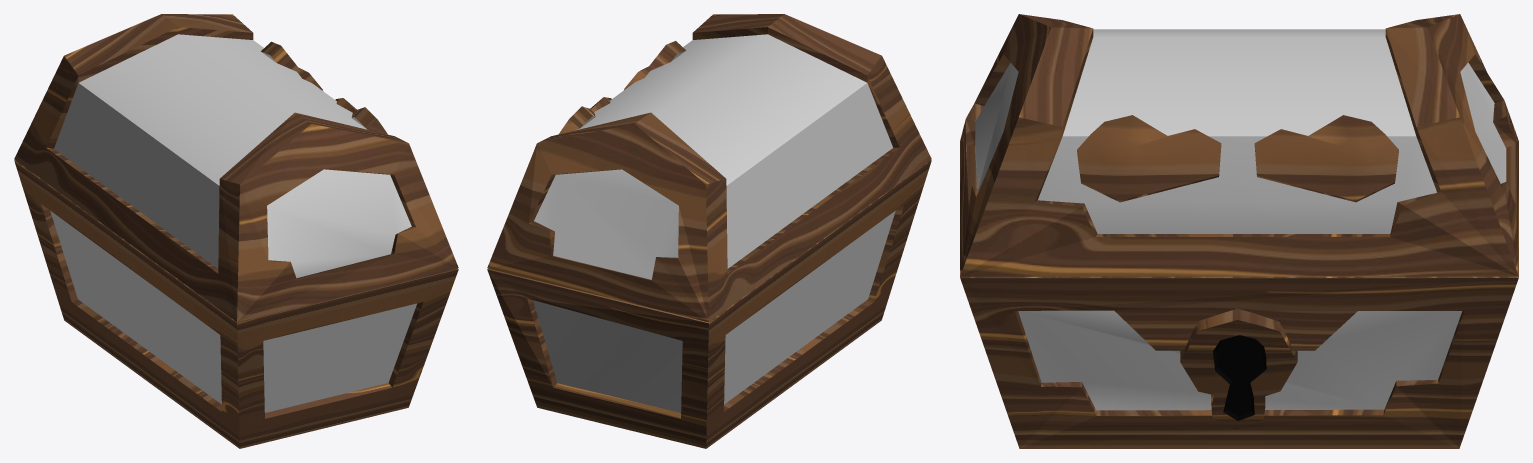
The model's file is Wood Chest Zelda.FBX.
The picture shows the model from 3 angles, left to right: view 1: azimuth 30°, elevation 25°; view 2: azimuth 150°, elevation 25°; view 3: azimuth 270°, elevation 25°; orthographic projection. The views are drawn at different scales.
Parts seen in each view (by area): view 1: Object001, Box001; view 2: Object001, Box001; view 3: Object001, Box001.
Part boxes in pixels (left/top/right/bottom): Object001: left=14, top=14, right=458, bottom=322; Box001: left=14, top=160, right=458, bottom=448; Object001: left=487, top=14, right=931, bottom=322; Box001: left=487, top=160, right=931, bottom=448; Object001: left=960, top=14, right=1518, bottom=276; Box001: left=960, top=270, right=1518, bottom=448.
Size of the model in its own units: 28.55 by 35.26 by 48.26.
